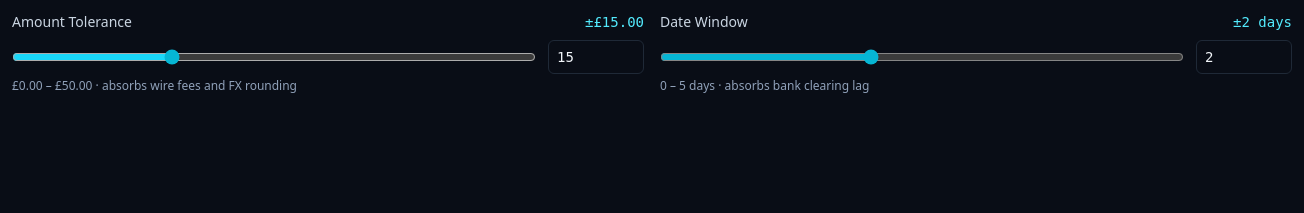
Test case: ToleranceControls › goes back to the applied rules on discard
The width and height of the screenshot is (1304, 213).
Replace the text in the number field named "Amount tolerance, exact value" with "40". click: (596, 57)
box: [548,40,644,74]
Wait 250 ms
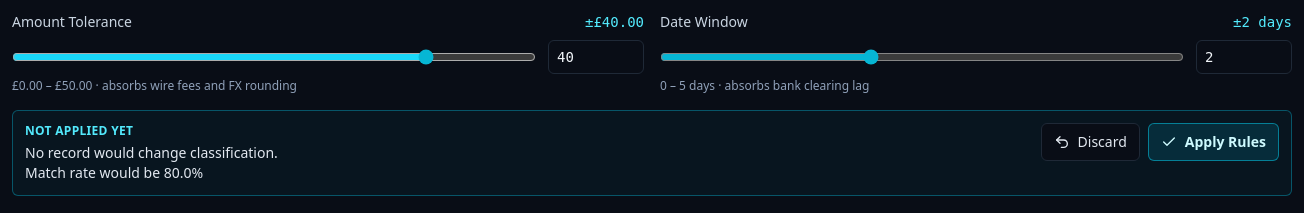
Click the button "Discard". click: (1090, 142)
box: [1041,123,1140,161]
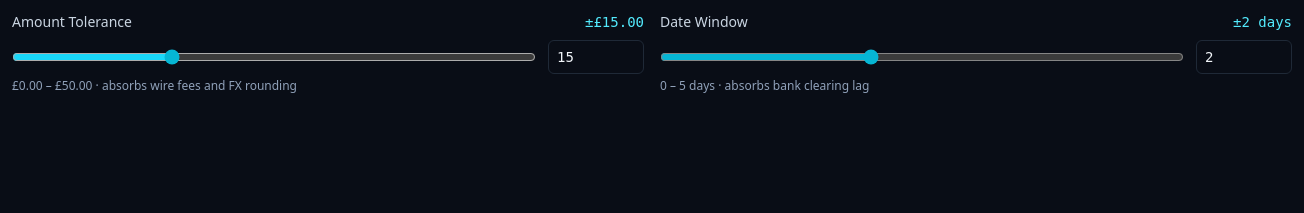
Check: the number field named "Amount tolerance, exact value" holds "15", box [548,40,644,74]
Check: the text "Not applied yet" is gone
